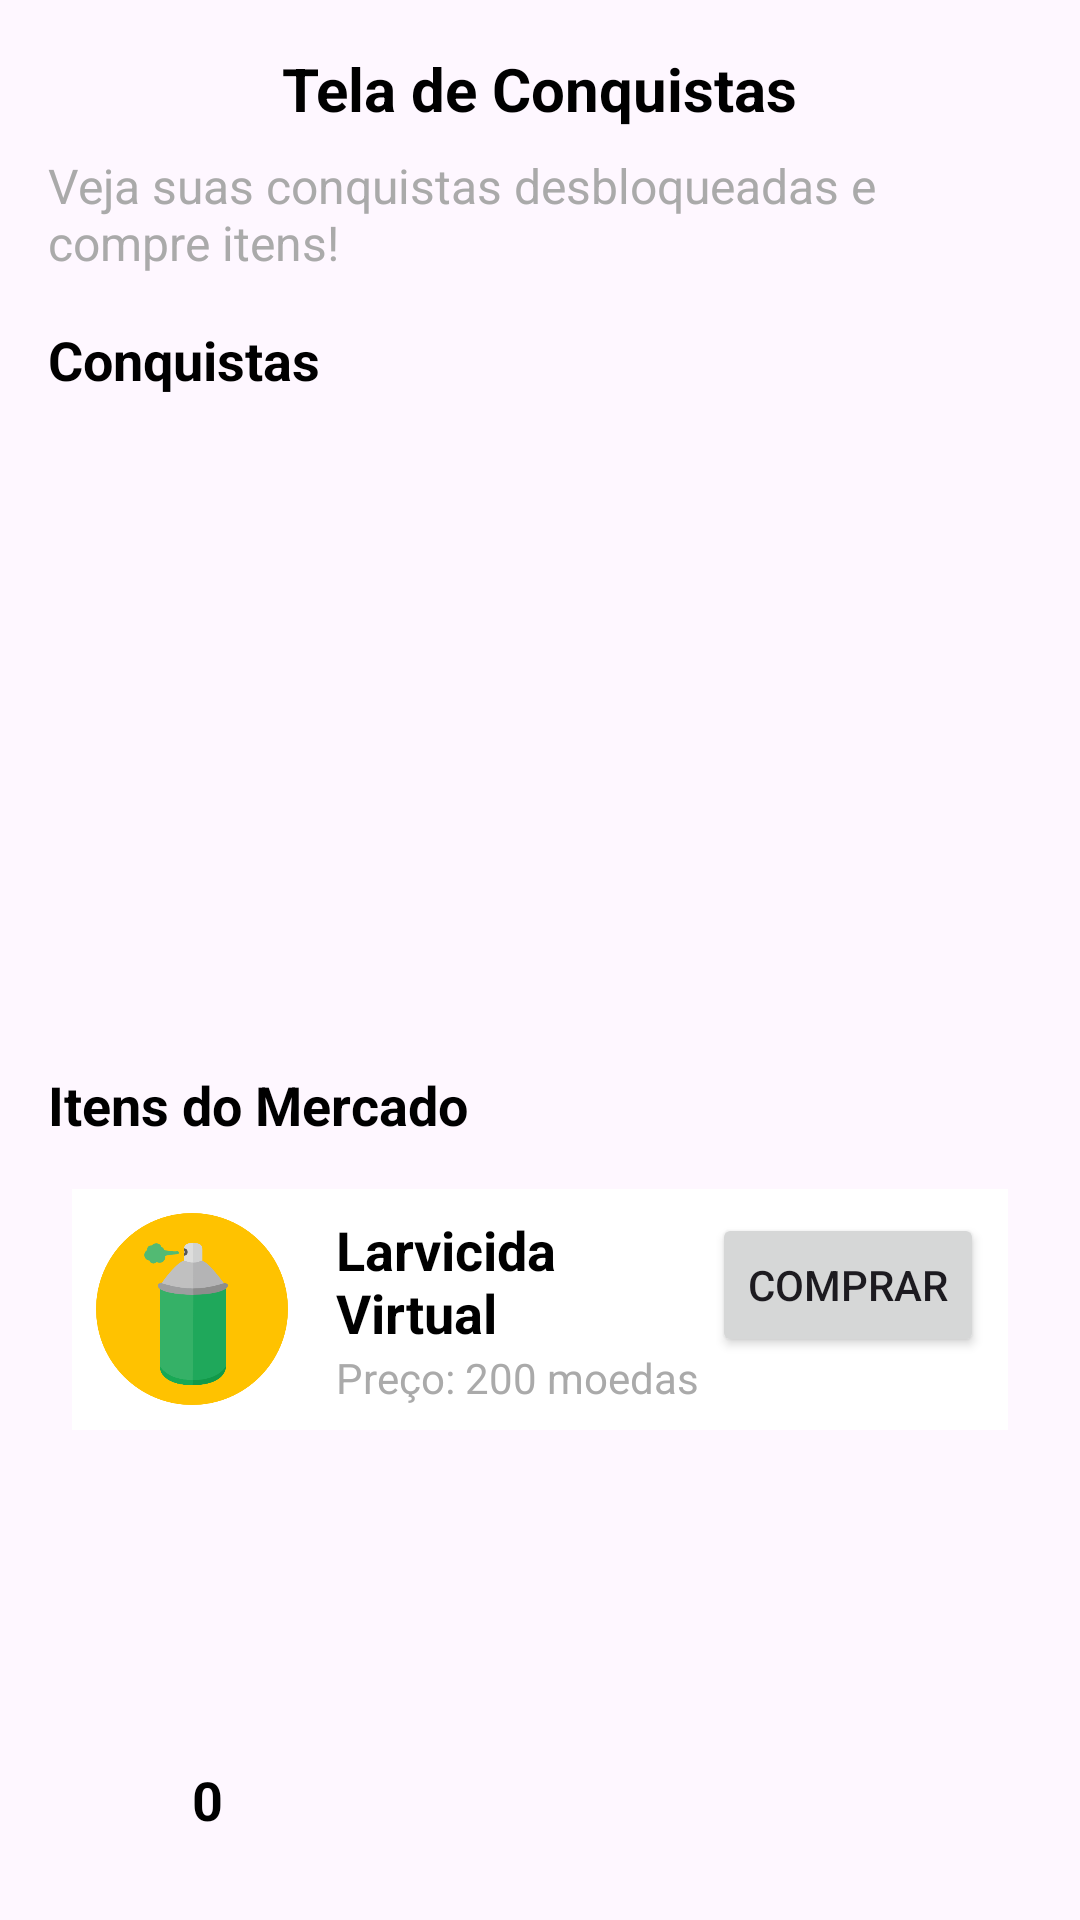

Named icons in this screenshot (1080px x 1920px) and their centers, [x,y]:
spray: [192,1309]
